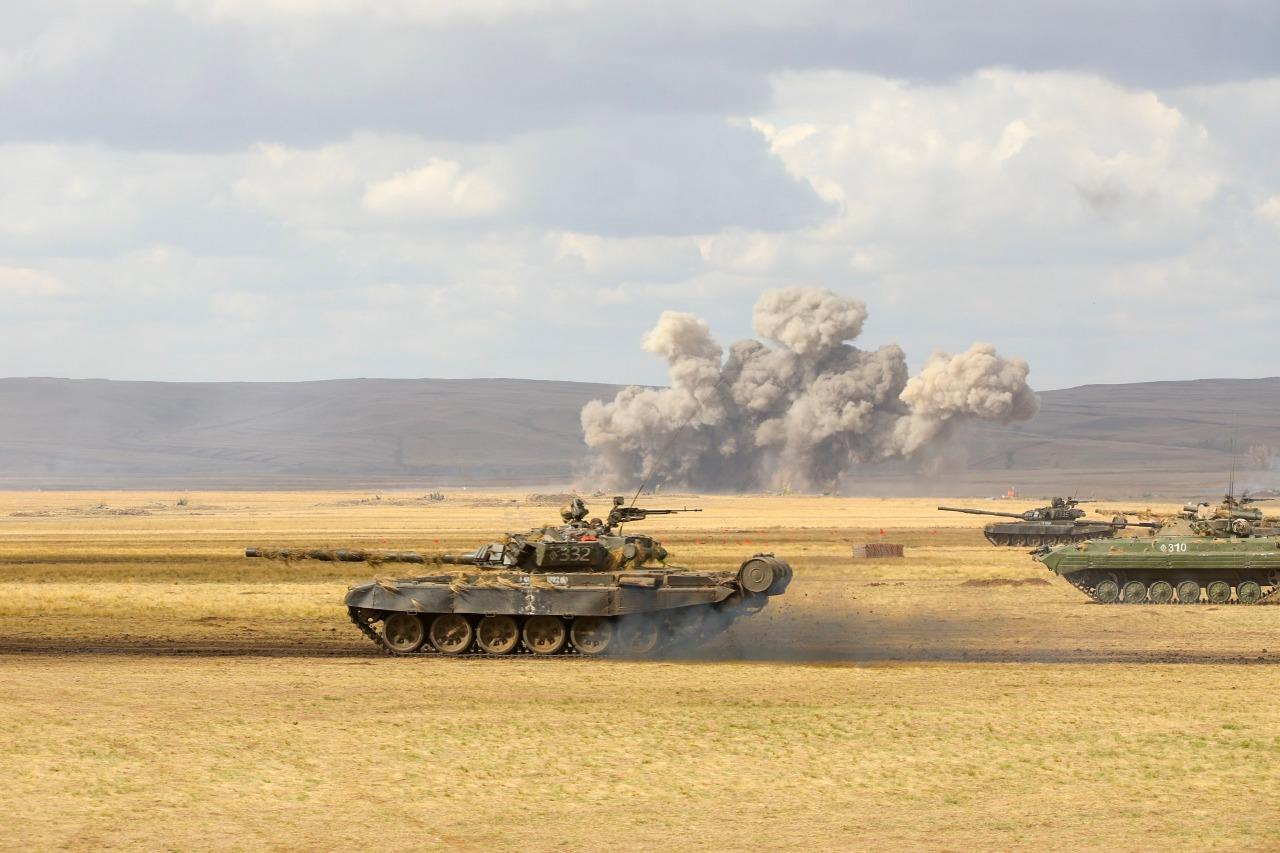tank: (243, 493, 795, 660), (1033, 514, 1280, 618), (934, 495, 1130, 548), (1095, 496, 1280, 538)
